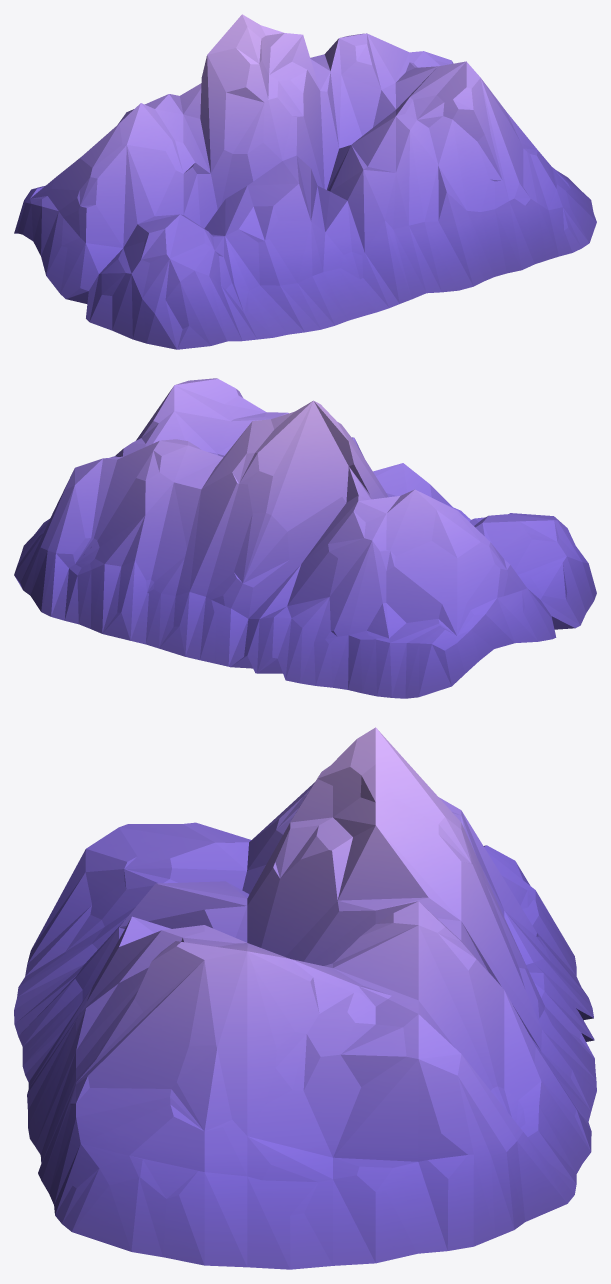
The model's file is Night_Mountain_003.FBX.
3 renders of one model, top to bottom at view 1: azimuth 30°, elevation 25°; view 2: azimuth 150°, elevation 25°; view 3: azimuth 270°, elevation 25°, orthographic. The views are drawn at different scales.
Parts seen in each view (by area): view 1: Night_Mountain_003; view 2: Night_Mountain_003; view 3: Night_Mountain_003.
Part boxes in pixels (box(x1,y1,x2,y2)): Night_Mountain_003: box(14, 14, 596, 349); Night_Mountain_003: box(14, 378, 596, 698); Night_Mountain_003: box(14, 727, 596, 1269).
Size of the model in its own units: 4056 by 1665 by 2680.
1 material, 1 textured.
